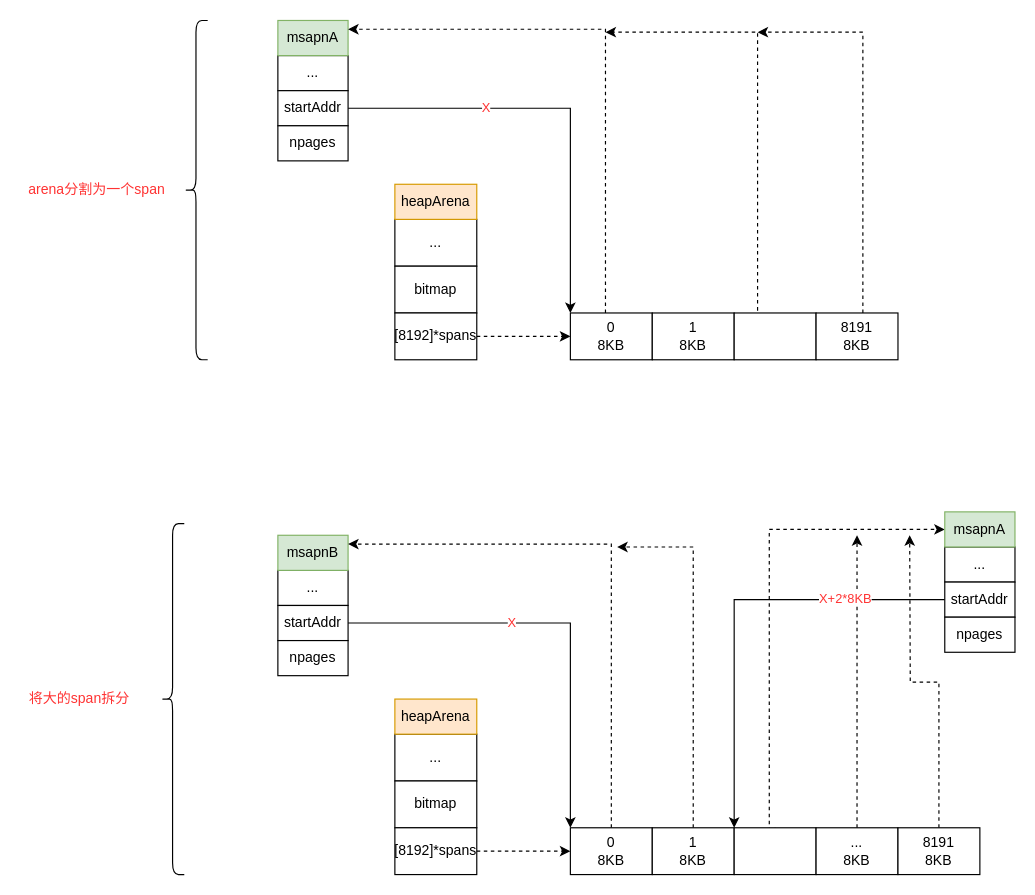
This 1035x895 diagram has some shape labels left out. Here are the shapes that lost their labels. From the top down, the box of each, then its label:
(733, 312, 816, 360): ...... 8KB
(733, 827, 816, 875): 2 8KB
